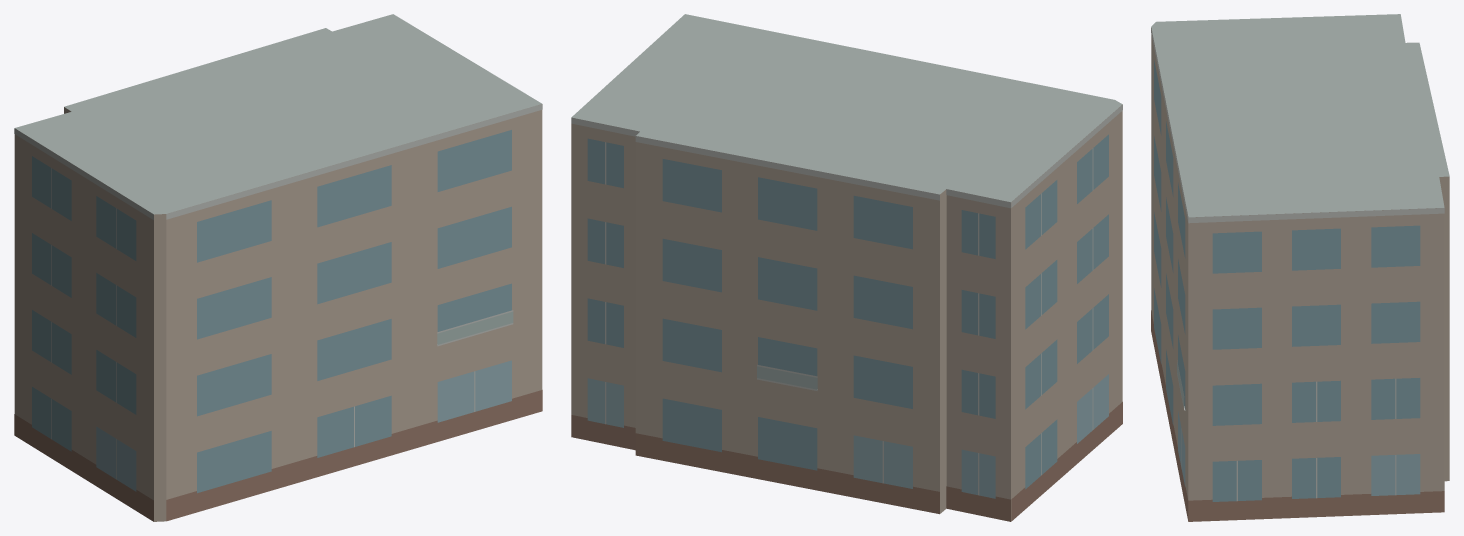
Rendered from survey-upis-32659743.glb.
3 views of the same model, side by side, from view 1: azimuth 30°, elevation 25°; view 2: azimuth 150°, elevation 25°; view 3: azimuth 270°, elevation 25° (orthographic). The views are drawn at different scales.
Parts seen in each view (by area): view 1: survey-upis-32659743.tmp; view 2: survey-upis-32659743.tmp; view 3: survey-upis-32659743.tmp.
Part boxes in pixels (<box>): survey-upis-32659743.tmp: <box>14,14,542,521</box>; survey-upis-32659743.tmp: <box>571,14,1122,521</box>; survey-upis-32659743.tmp: <box>1151,14,1449,521</box>.
Size of the model in its own units: 18.35 by 12.8 by 11.39.
